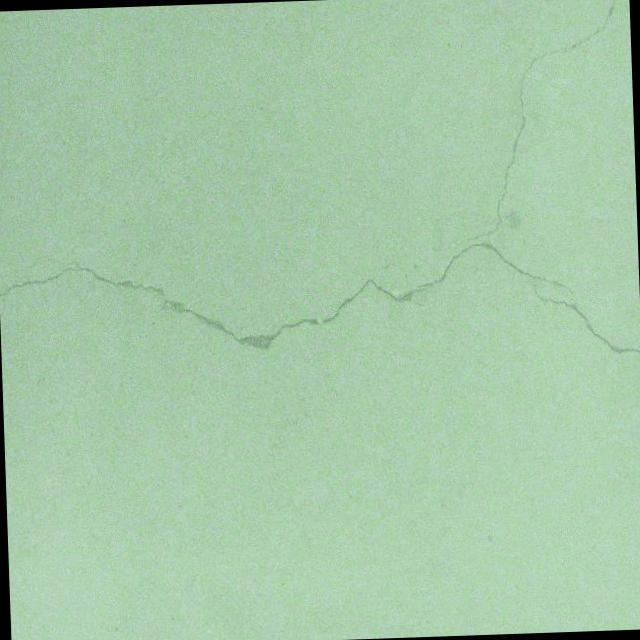crack: (0, 0, 631, 360), (516, 273, 640, 362), (288, 505, 314, 625)
